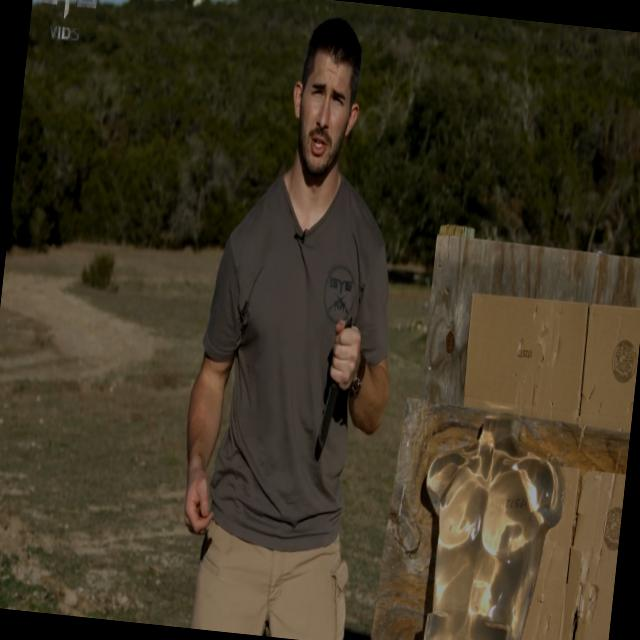knife: (308, 304, 366, 466)
